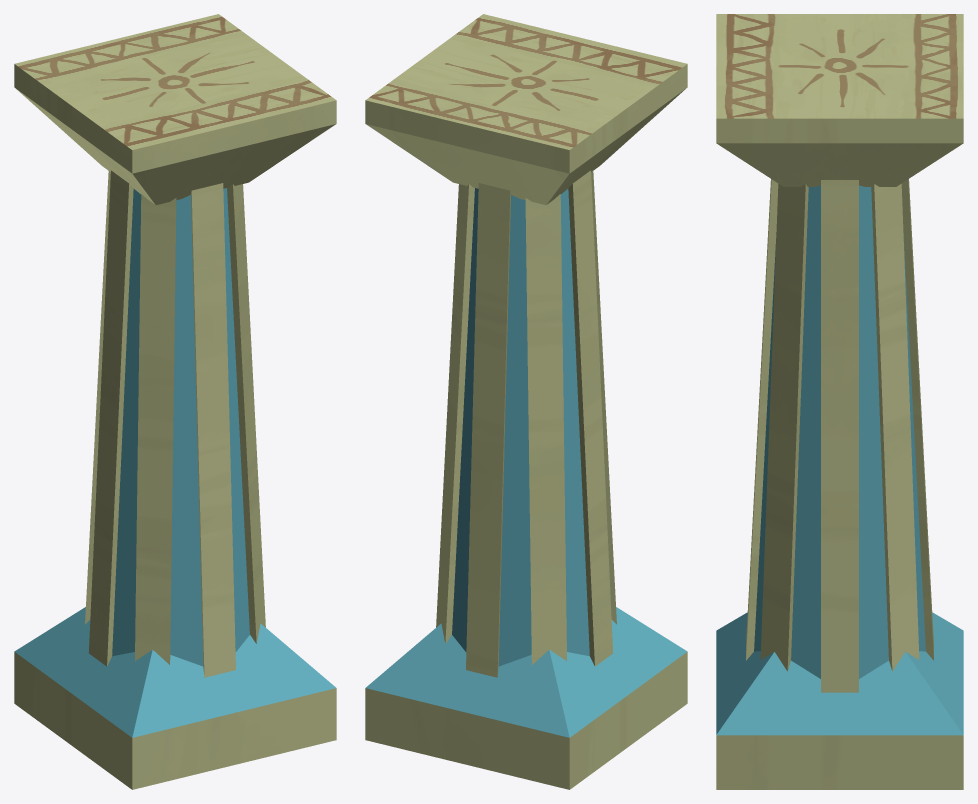
Rendered from block_02.fbx.
3 views of the same model, side by side, from view 1: azimuth 30°, elevation 25°; view 2: azimuth 150°, elevation 25°; view 3: azimuth 270°, elevation 25° (orthographic). The views are drawn at different scales.
Parts seen in each view (by area): view 1: block_02; view 2: block_02; view 3: block_02.
Part boxes in pixels (bbox=[...]): block_02: bbox=[14, 14, 336, 789]; block_02: bbox=[365, 14, 687, 789]; block_02: bbox=[716, 14, 963, 789].
Bounding box in the file's own units: 1 × 2.99 × 1.
3 materials, 2 textured.
